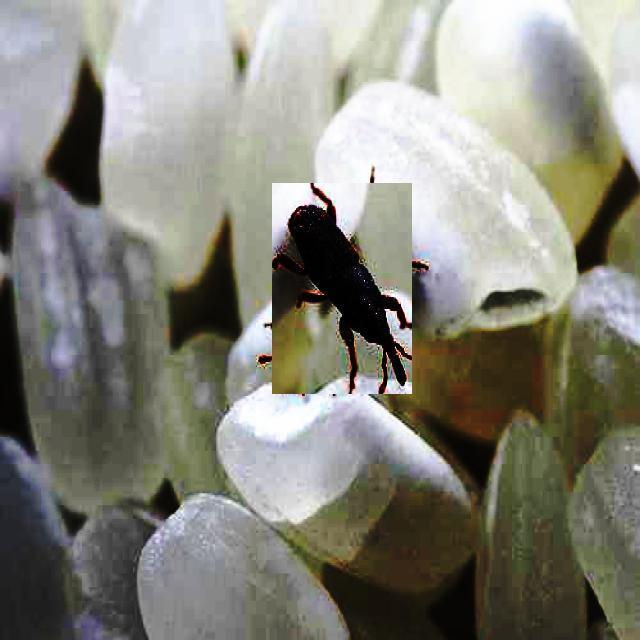rice-bug: (273, 183, 413, 394)
